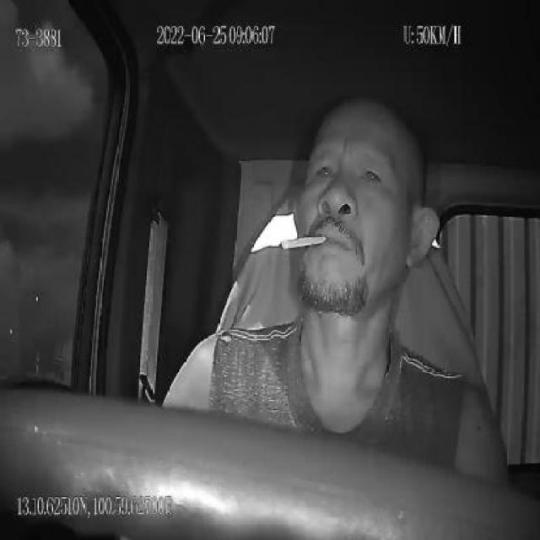smoking: (281, 232, 327, 251)
